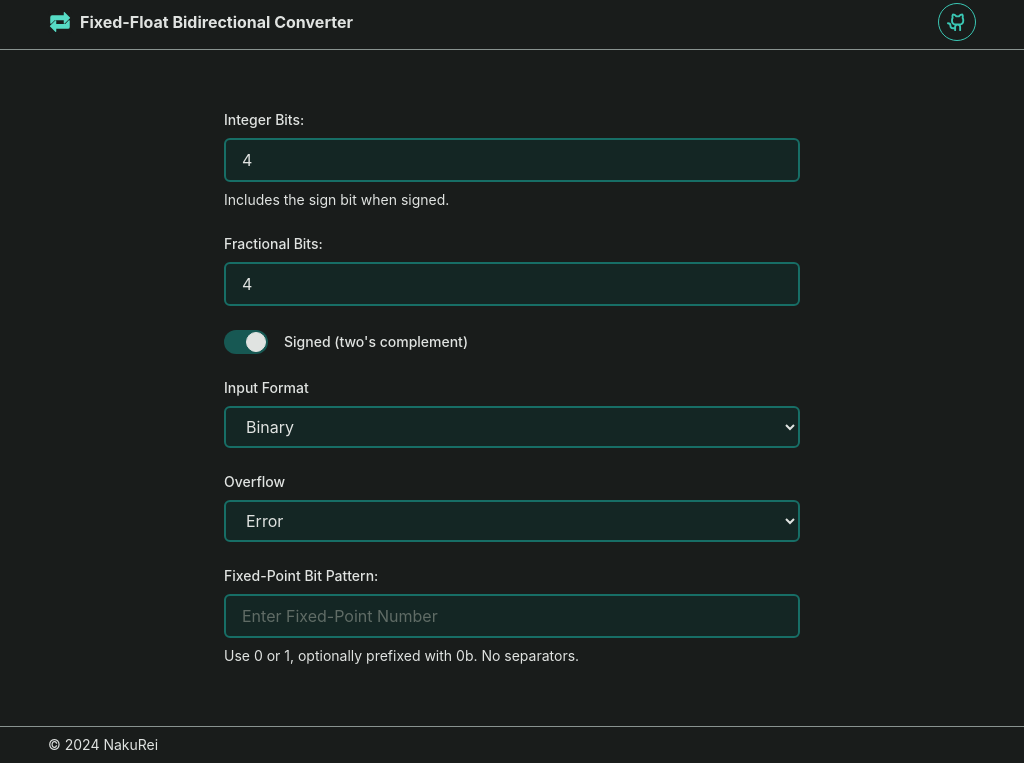
Test: Original and converted output values › preserves cd entered as hexadecimal
Select "Hexadecimal" in the dropdown labelled "Input Format". click: {"x": 512, "y": 427}
box: x1=224 y1=406 x2=800 y2=448
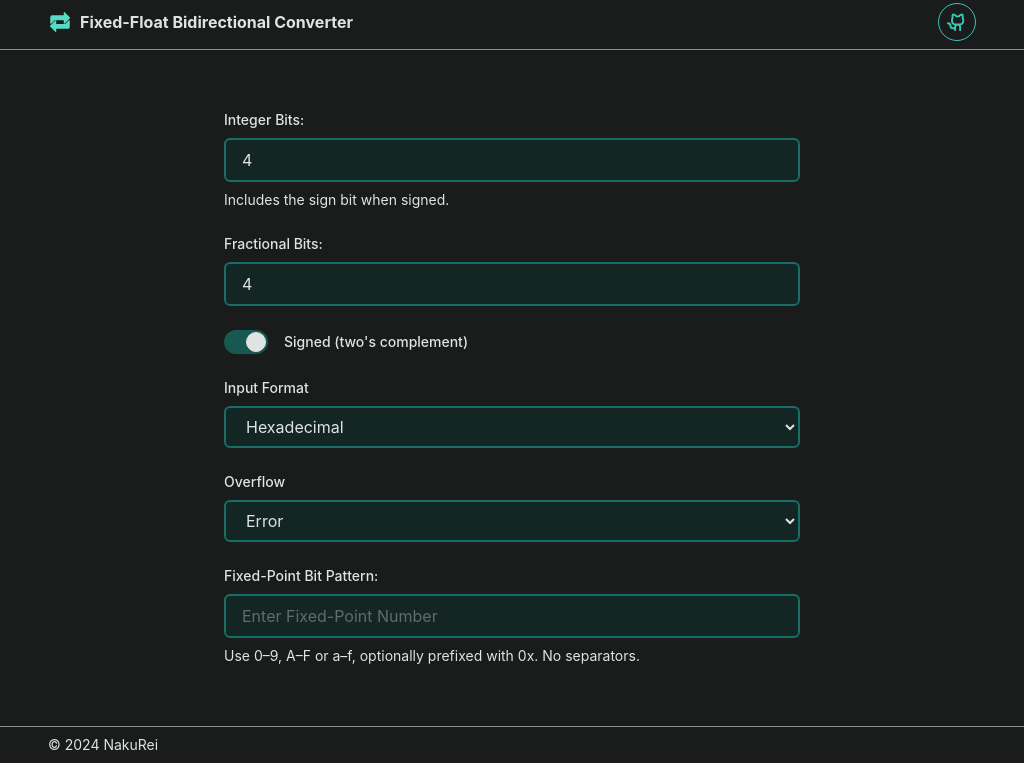
Type "cd" into the field labelled "Fixed-Point Bit Pattern:". click: {"x": 512, "y": 616}
box: x1=224 y1=594 x2=800 y2=638
(page scrolled)
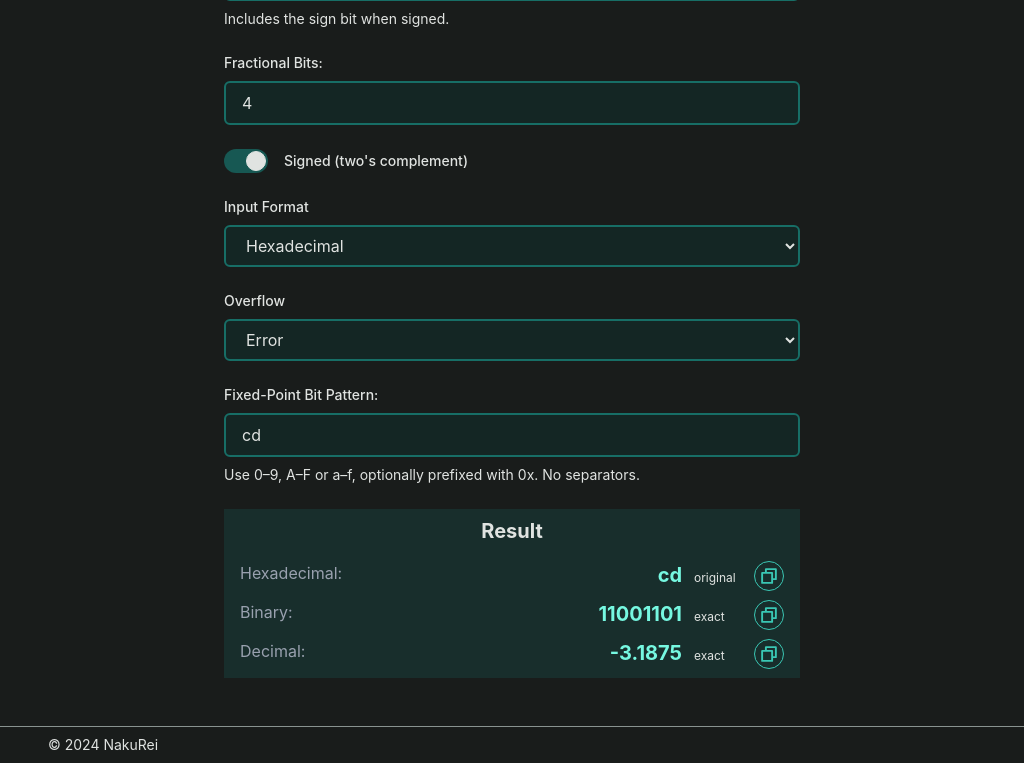
Check: the text "cd" is shown, box x1=658 y1=561 x2=682 y2=589
Check: the text "11001101" is shown, box x1=598 y1=600 x2=682 y2=628
Check: the text "exact" next to "11001101" is shown, box x1=694 y1=609 x2=725 y2=624
